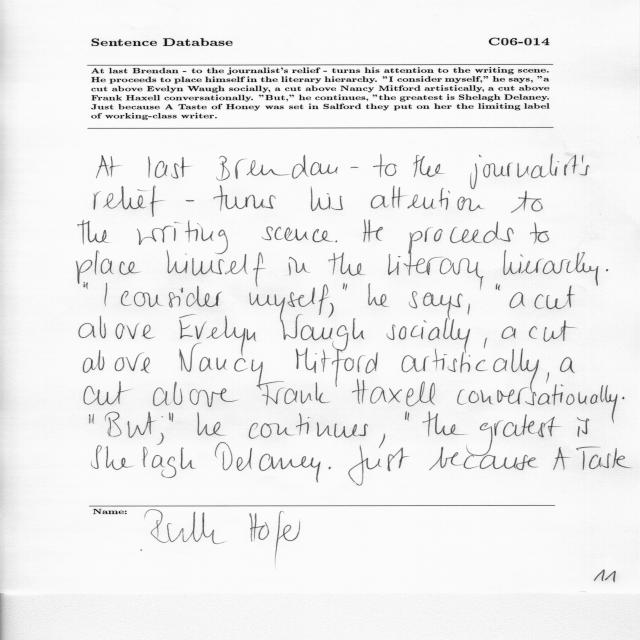word: (457, 384, 618, 423), (402, 349, 539, 394), (179, 343, 285, 390), (249, 284, 334, 340), (215, 442, 321, 482), (388, 246, 484, 290), (470, 154, 590, 189), (167, 250, 266, 287), (91, 445, 196, 478), (503, 250, 599, 286), (429, 439, 538, 470), (179, 315, 256, 357), (216, 155, 338, 181), (137, 220, 228, 254), (249, 413, 368, 439), (387, 318, 470, 353), (371, 186, 485, 211), (296, 343, 378, 377), (410, 222, 514, 246), (348, 445, 409, 485), (352, 379, 435, 406), (94, 185, 164, 217), (77, 250, 141, 284), (153, 382, 238, 407), (121, 286, 222, 307), (262, 379, 337, 406), (480, 414, 561, 439), (105, 412, 164, 445), (79, 316, 155, 339), (213, 185, 276, 211), (409, 291, 463, 320), (83, 350, 150, 373), (301, 318, 365, 342), (577, 446, 632, 470), (262, 227, 333, 243), (84, 381, 131, 405), (422, 412, 466, 437), (529, 320, 576, 342), (535, 285, 576, 309), (148, 157, 192, 179), (329, 252, 366, 276), (310, 187, 343, 211), (78, 220, 109, 245), (511, 191, 543, 213), (413, 155, 444, 177), (198, 412, 226, 436), (97, 155, 121, 178), (373, 154, 397, 177), (368, 283, 388, 307), (363, 220, 383, 242), (530, 222, 549, 244), (289, 257, 311, 276), (554, 447, 571, 470), (509, 292, 525, 308), (560, 357, 575, 373), (577, 417, 589, 437), (501, 326, 516, 339), (379, 434, 385, 449), (104, 283, 107, 307), (90, 414, 95, 424), (405, 411, 409, 421), (467, 303, 470, 315), (484, 338, 487, 349), (546, 372, 549, 383), (84, 282, 88, 289), (496, 284, 500, 291), (172, 413, 174, 422), (186, 200, 194, 202), (169, 413, 171, 421), (343, 283, 345, 289), (345, 284, 347, 290), (329, 467, 332, 470), (351, 167, 359, 168), (622, 397, 625, 399), (336, 241, 338, 243), (606, 269, 608, 271)
